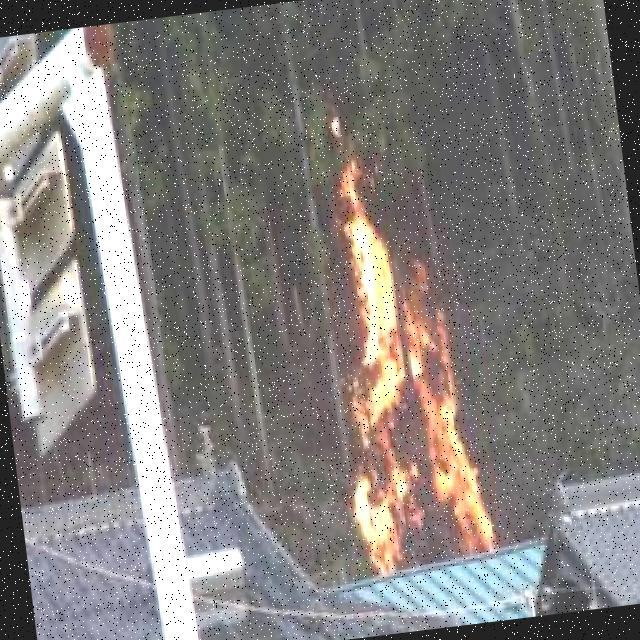Fire: (307, 165, 498, 572)
